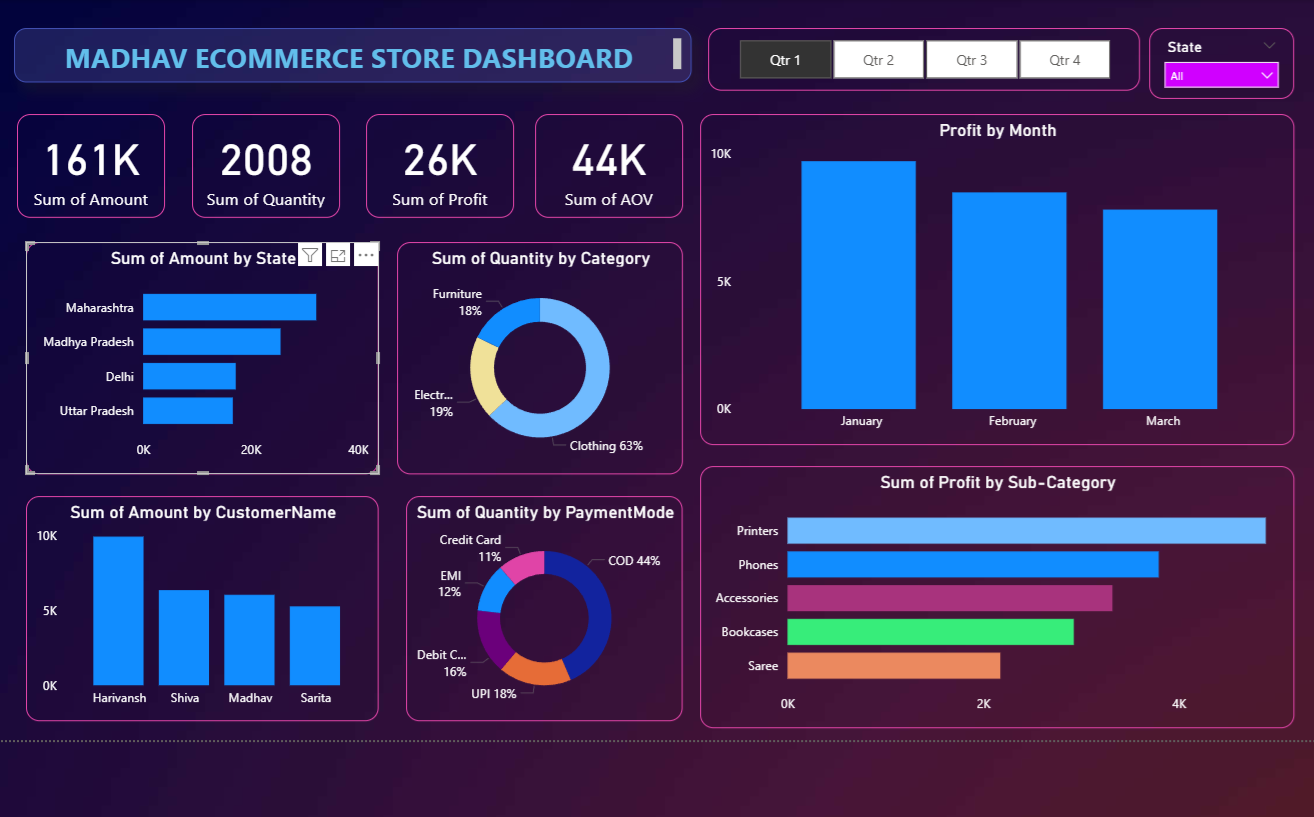

What the dashboard file says about the page in this screenshot:
{"tool":"powerbi","page":{"name":"Page 1","canvas":[1280,720],"ordinal":0},"visuals":[{"type":"textbox","box":[13.6,27.2,659.5,52.5],"z":0},{"type":"columnChart","title":" Profit by Month","fields":{"Category":["Orders.Order Date.Variation.Date Hierarchy.Month"],"Y":["Details.Profit"]},"box":[680.9,110.9,577.8,321.9],"z":1000},{"type":"barChart","fields":{"Category":["Details.Sub-Category"],"Y":["Details.Profit"]},"box":[680.9,453.3,577.8,254.8],"z":2000},{"type":"donutChart","fields":{"Y":["Details.Quantity"],"Category":["Details.PaymentMode"]},"box":[394.9,482.4,269.4,218.8],"z":3000},{"type":"donutChart","fields":{"Category":["Details.Category"],"Y":["Details.Quantity"]},"box":[386.1,235.4,278.2,225.7],"z":4000},{"type":"card","fields":{"Values":["Details.Amount"]},"box":[16.5,110.9,144,101.2],"z":5000},{"type":"card","fields":{"Values":["Details.Quantity"]},"box":[186.7,110.9,144,101.2],"z":6000},{"type":"card","fields":{"Values":["Details.Profit"]},"box":[356,110.9,144,101.2],"z":7000},{"type":"card","fields":{"Values":["Details.AOV"]},"box":[520.4,110.9,144,101.2],"z":8000},{"type":"barChart","fields":{"Category":["Orders.State"],"Y":["Details.Amount"]},"box":[25.3,235.4,343.3,225.7],"z":9000},{"type":"columnChart","fields":{"Category":["Orders.CustomerName"],"Y":["Details.Amount"]},"box":[25,482,343,219],"z":10000},{"type":"slicer","fields":{"Values":["Orders.State"]},"box":[1117.6,27.2,141,69.1],"z":11000},{"type":"slicer","fields":{"Values":["Orders.Order Date.Variation.Date Hierarchy.Quarter"]},"box":[688.6,27.2,420.2,61.3],"z":12000}]}

Visuals, with their boxes on the page's 1280x720 design canvas (x1, y1, x2, y2). These are canvas units, not pixel positions in the 1314x817 screenshot, which may show the page scaled, cropped or inside an application window:
textbox: x1=14, y1=27, x2=673, y2=80
" Profit by Month" columnChart: x1=681, y1=111, x2=1259, y2=433
barChart - Details.Sub-Category x Details.Profit: x1=681, y1=453, x2=1259, y2=708
donutChart - Details.Quantity x Details.PaymentMode: x1=395, y1=482, x2=664, y2=701
donutChart - Details.Category x Details.Quantity: x1=386, y1=235, x2=664, y2=461
card - Details.Amount: x1=16, y1=111, x2=160, y2=212
card - Details.Quantity: x1=187, y1=111, x2=331, y2=212
card - Details.Profit: x1=356, y1=111, x2=500, y2=212
card - Details.AOV: x1=520, y1=111, x2=664, y2=212
barChart - Orders.State x Details.Amount: x1=25, y1=235, x2=369, y2=461
columnChart - Orders.CustomerName x Details.Amount: x1=25, y1=482, x2=368, y2=701
slicer - Orders.State: x1=1118, y1=27, x2=1259, y2=96
slicer - Orders.Order Date.Variation.Date Hierarchy.Quarter: x1=689, y1=27, x2=1109, y2=88
